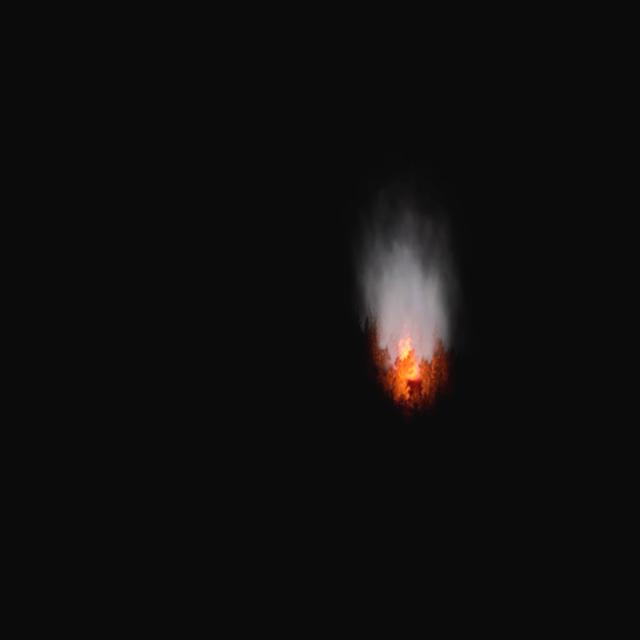fire: (394, 336, 423, 389)
smoke: (354, 200, 466, 360)
